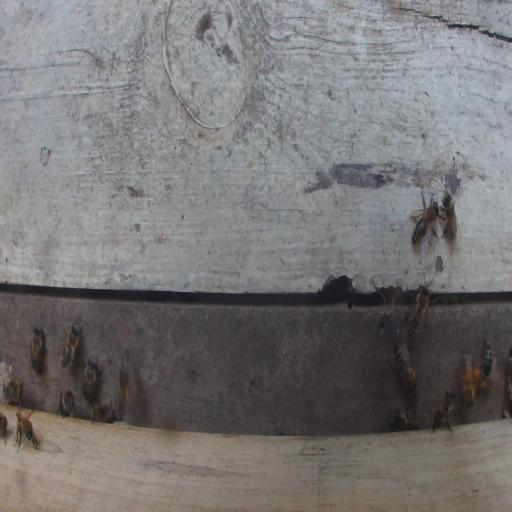bee: (410, 193, 442, 254), (459, 347, 481, 412), (389, 343, 417, 393), (407, 282, 431, 340), (475, 332, 494, 396), (431, 388, 457, 433), (14, 408, 39, 452), (60, 321, 82, 369), (441, 193, 458, 240), (117, 353, 130, 414), (386, 407, 419, 431), (30, 324, 45, 375), (82, 357, 98, 403), (91, 402, 122, 423), (56, 390, 75, 417), (5, 374, 21, 405)
